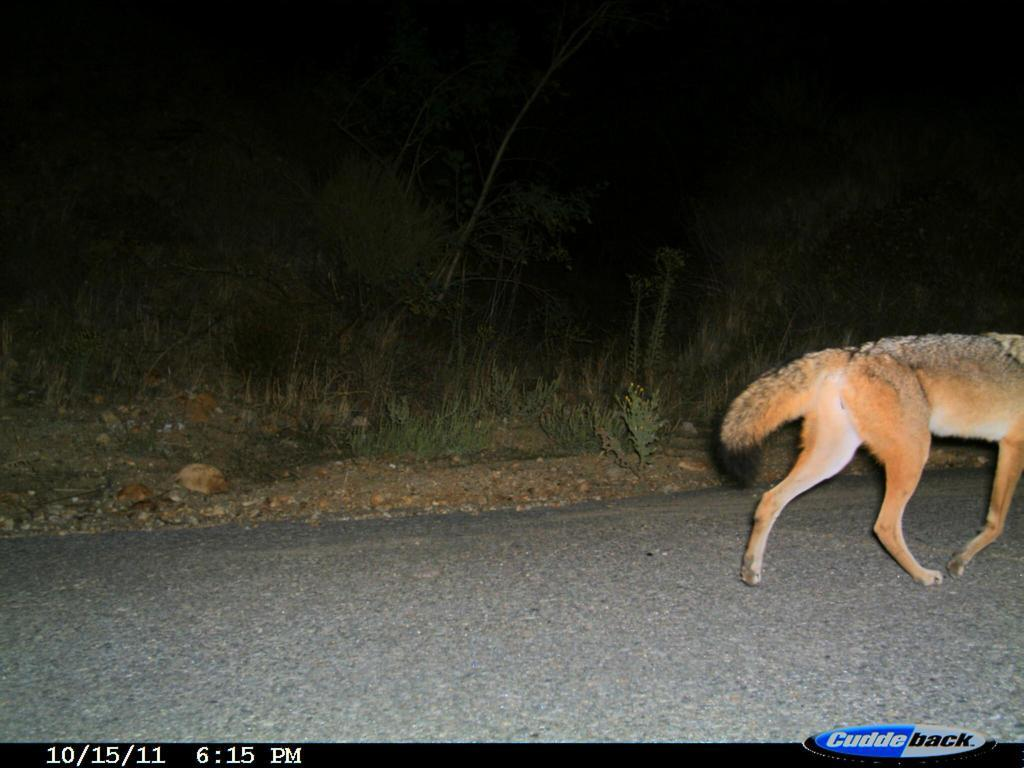coyote: (707, 306, 1023, 589)
